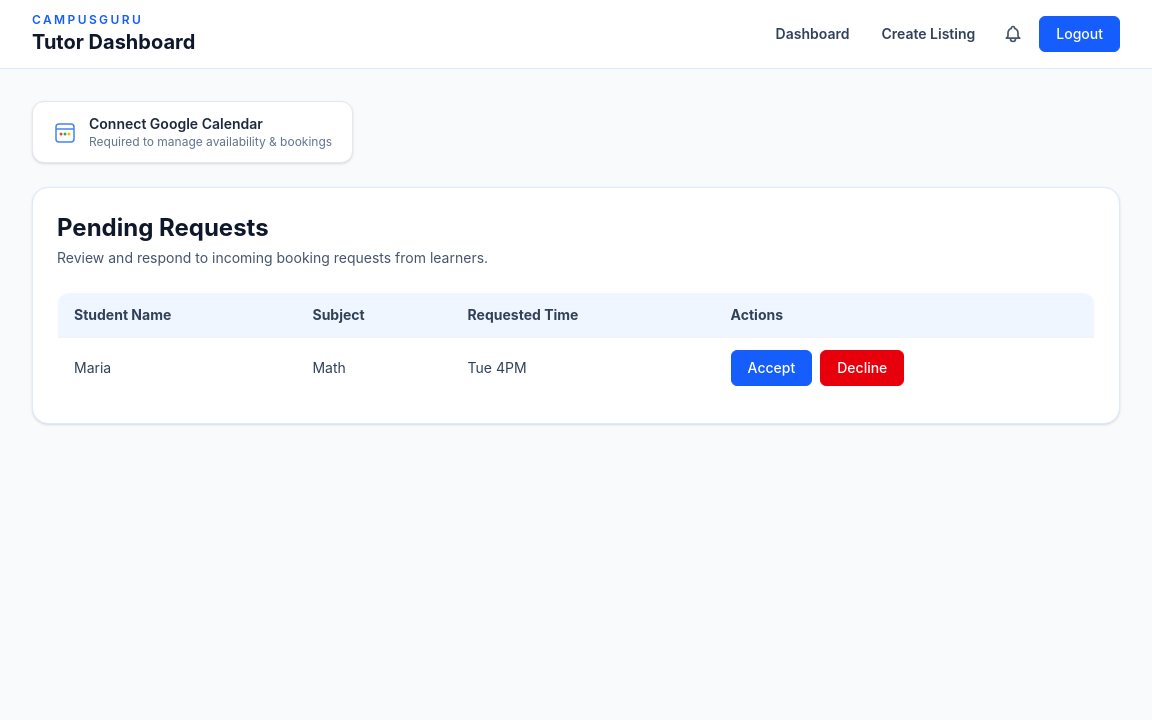
Test case: TutorDashboardPage › renders pending bookings and allows accept
This screenshot has width=1152, height=720.
expect the text "Maria" is shown: met, box [58,338,296,398]
expect the text "Math" is shown: met, box [296,338,452,398]
Click the button "Accept". click: {"x": 771, "y": 368}
box: [731,350,812,386]
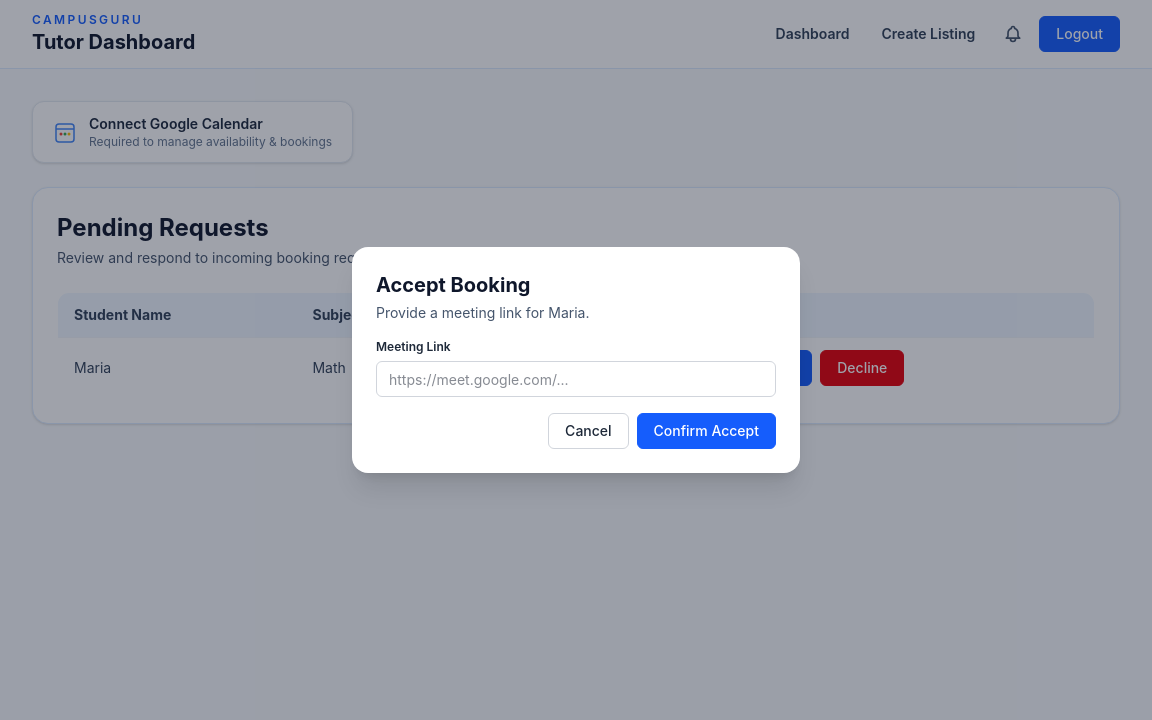
expect the heading "Accept Booking" is shown: met, box [376,273,530,297]
